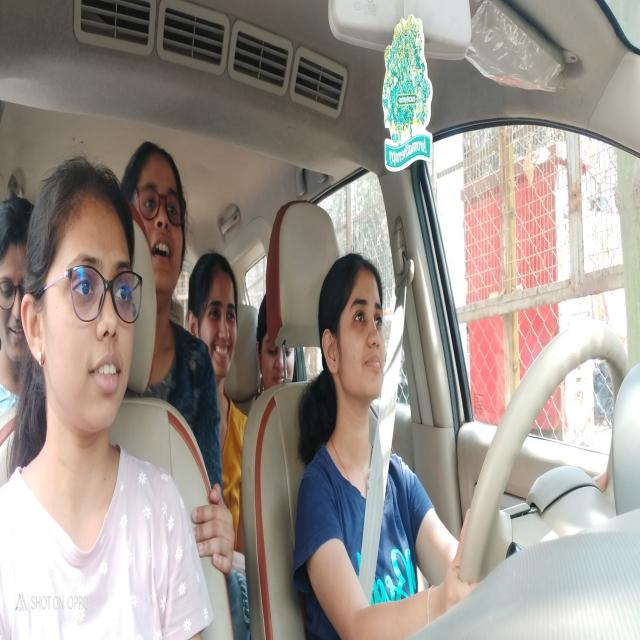person: (19, 149, 139, 449), (315, 243, 386, 415), (124, 137, 192, 290), (189, 249, 241, 382), (0, 192, 34, 378), (255, 294, 294, 398)
